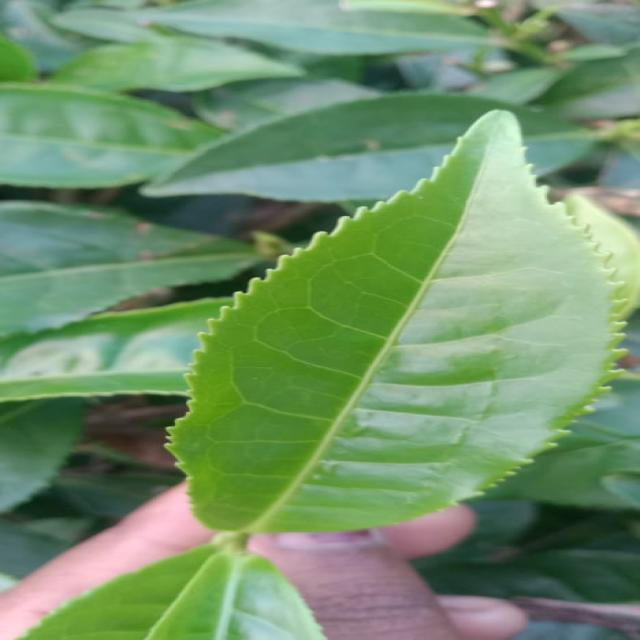Category B(2-4 days): (123, 97, 640, 549)
